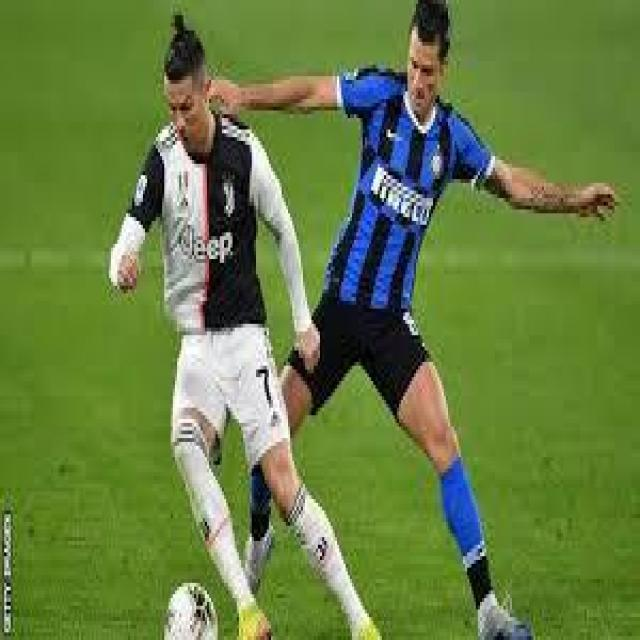Soccer Ball: (166, 586, 217, 640)
